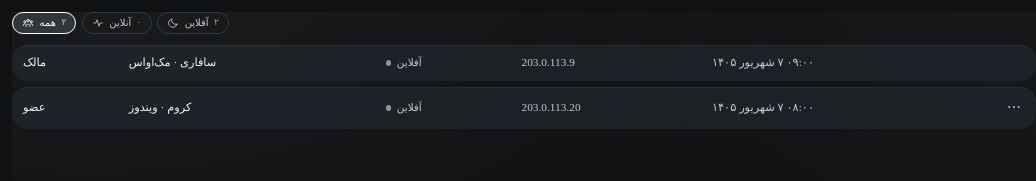
it: everyone's sessions › offers END on a row the wall allows, and NOT on the one it refuses
Expected: the text "عضو" is shown, [23,101,45,113]
Press the mouse on the button named "کارهای این ردیف" at (1014, 106), box [1003,96,1025,117]
Click the button named "کارهای این ردیف" at (1014, 106), box [1003,96,1025,117]
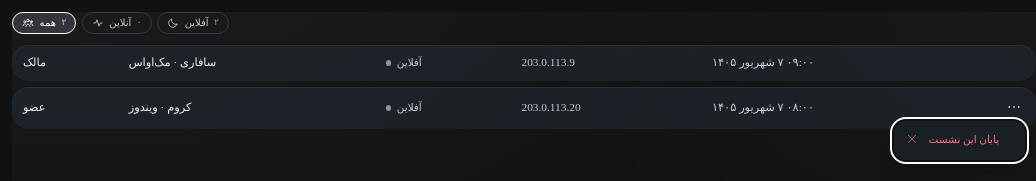
Now the menu item "پایان این نشست" is shown, box [905,132,999,146]
Press Escape
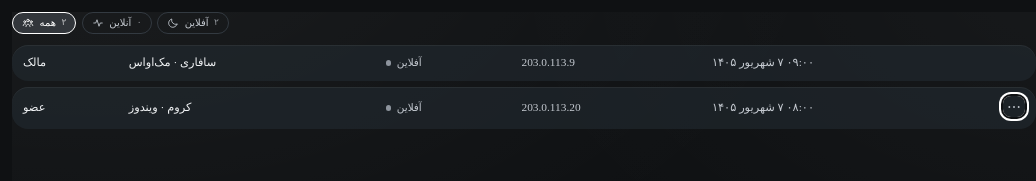
Now the menu is gone
